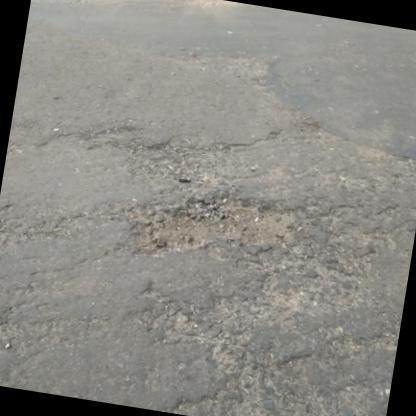pothole: (115, 188, 294, 257)
